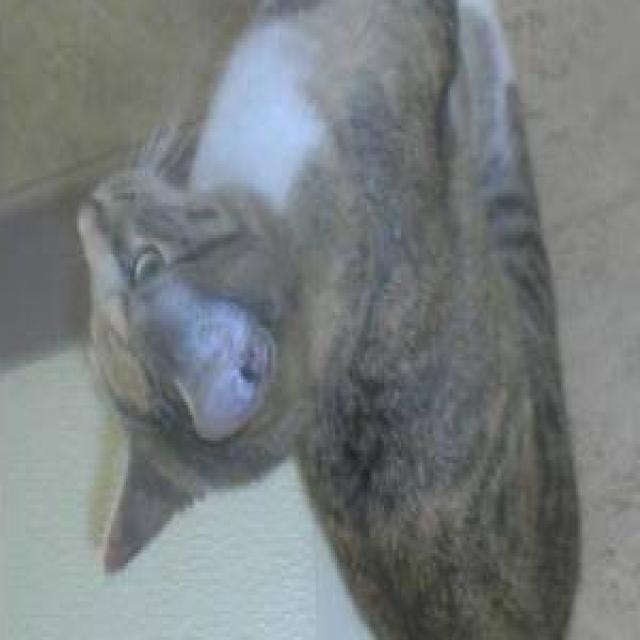Kucing: (64, 42, 580, 640)
